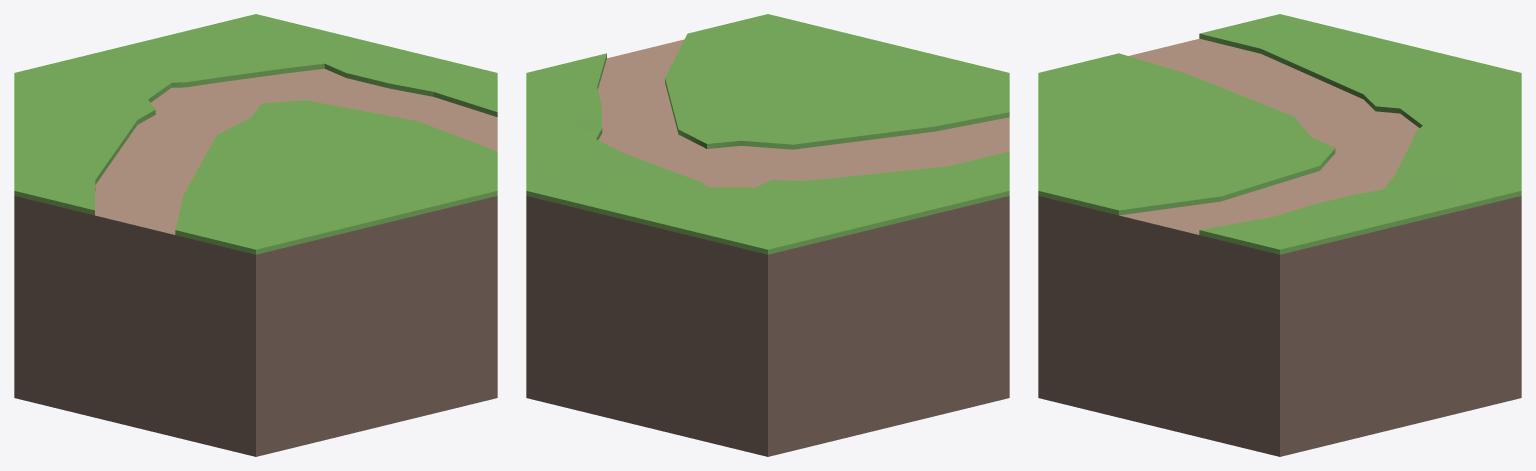
Rendered from tile_road04.fbx.
3 views of the same model, side by side, from view 1: azimuth 30°, elevation 25°; view 2: azimuth 150°, elevation 25°; view 3: azimuth 270°, elevation 25° (orthographic).
Parts seen in each view (by area): view 1: Tile_Road9; view 2: Tile_Road9; view 3: Tile_Road9.
Part boxes in pixels (x1,y1,x2,y2): Tile_Road9: (14,14,497,456); Tile_Road9: (526,14,1009,456); Tile_Road9: (1038,14,1521,456).
Size of the model in its own units: 2 by 0.8239 by 1.73.
